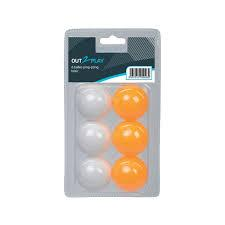ball_pingpong: (109, 156, 149, 193), (78, 85, 112, 122), (112, 86, 149, 120), (77, 122, 112, 157), (77, 158, 113, 192), (113, 121, 149, 154)
